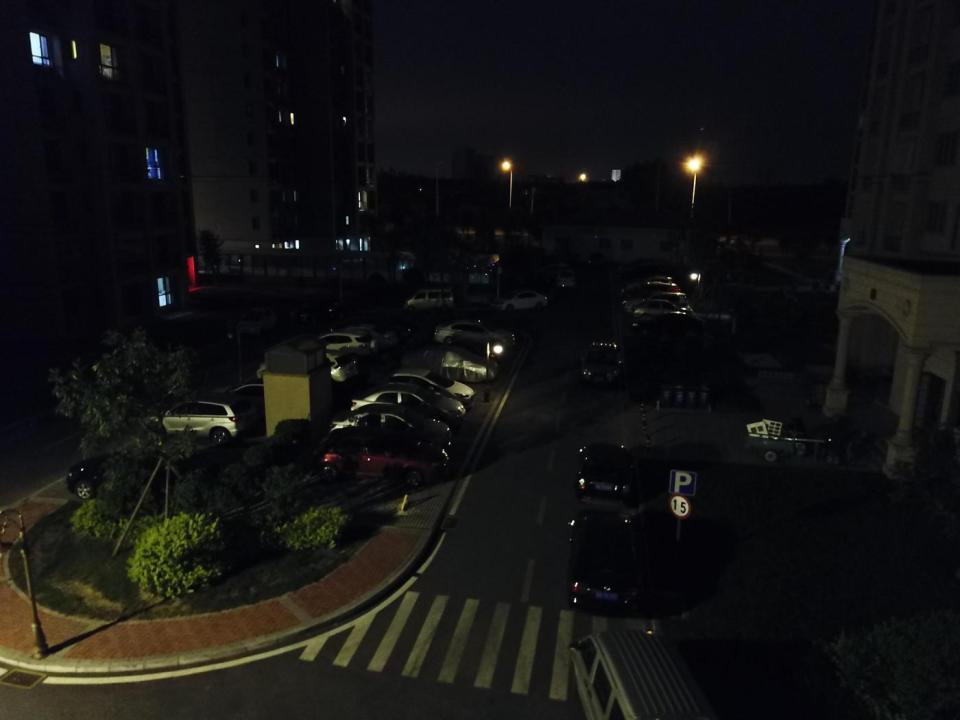car: (66, 442, 190, 515), (562, 503, 642, 614), (322, 423, 450, 492), (332, 405, 451, 459), (348, 382, 465, 430), (142, 392, 258, 434), (250, 345, 356, 388), (571, 439, 637, 507), (372, 365, 476, 408), (403, 345, 498, 389), (203, 377, 289, 419), (427, 318, 514, 355), (295, 329, 375, 363), (630, 311, 708, 342), (623, 290, 692, 320), (580, 339, 623, 385), (333, 324, 397, 352), (631, 298, 692, 325), (286, 296, 337, 328), (233, 305, 279, 338), (623, 283, 683, 308), (489, 287, 548, 312), (624, 262, 677, 285), (625, 276, 674, 298), (533, 264, 575, 283), (554, 269, 580, 291), (585, 251, 608, 270)
van: (563, 622, 721, 720), (401, 284, 456, 312)
